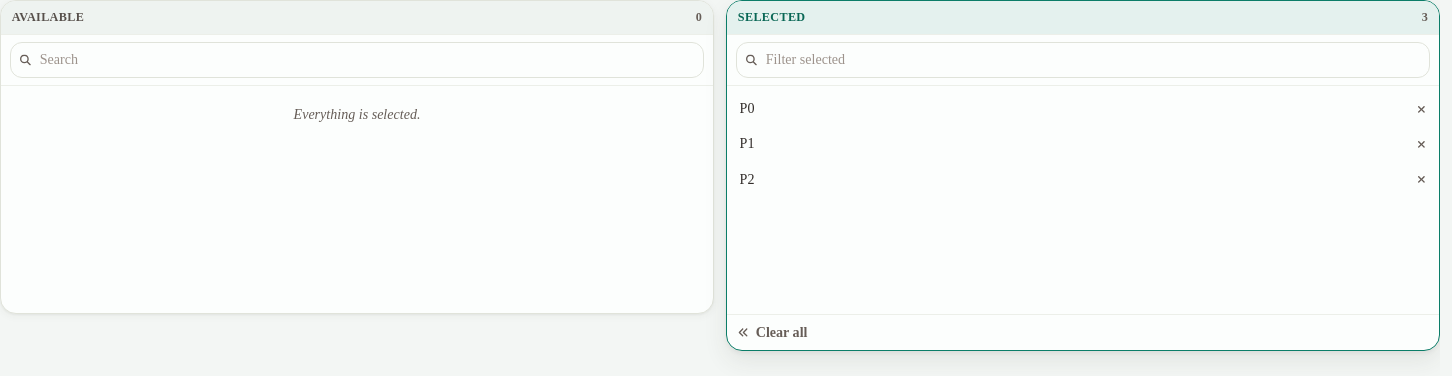
Scenario: TransferList — filtering › reveals the selected-side filter only past the threshold
Step 1. Type "P1" into the field with test id "transfer-sel-search-g1" → (1083, 60), box [736,42,1430,78]
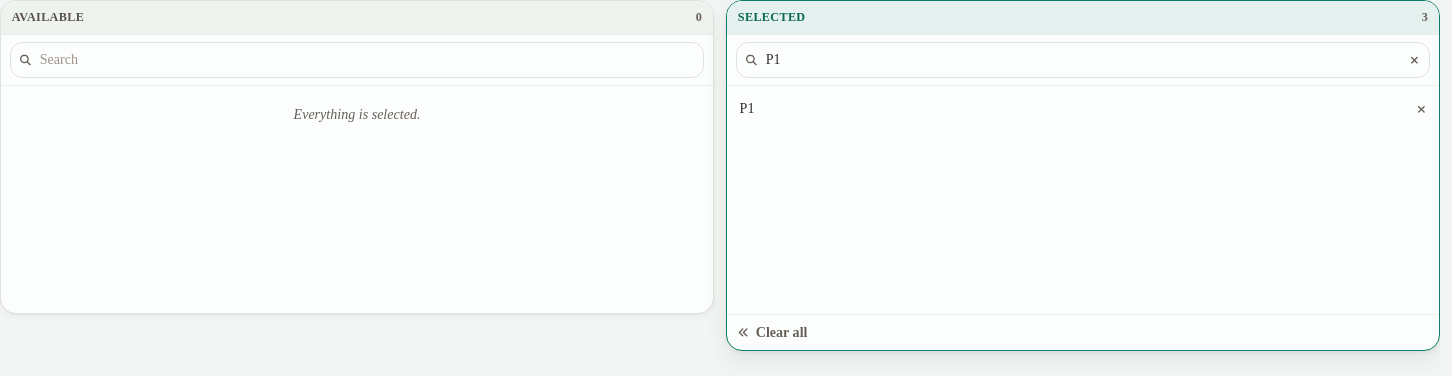
Expected: the text "P1" is shown, [740,98,754,120]
Expected: the button "P0" is gone
